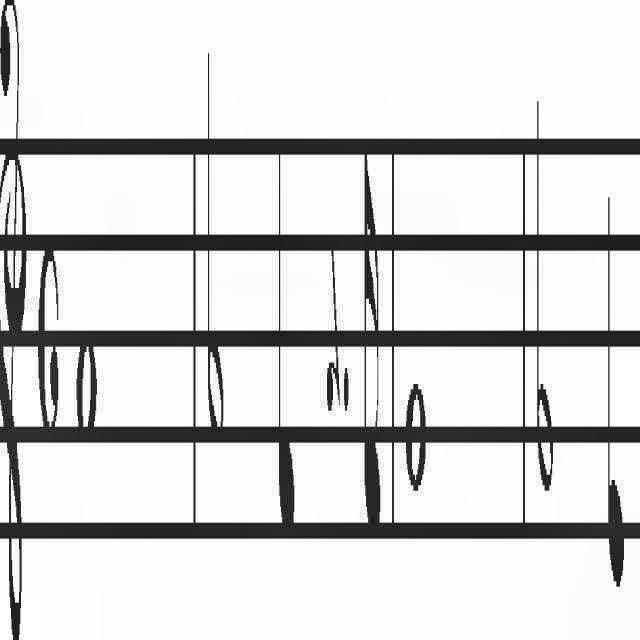Bass-clef: (0, 0, 28, 640)
Eighth-rest: (326, 239, 342, 413)
Full-note: (404, 380, 426, 496), (76, 332, 98, 440)
Half-note: (207, 44, 226, 440), (536, 93, 554, 499)
Quarter-note: (606, 184, 626, 592), (277, 139, 295, 537)
Sixteenth-note: (362, 134, 382, 534)
